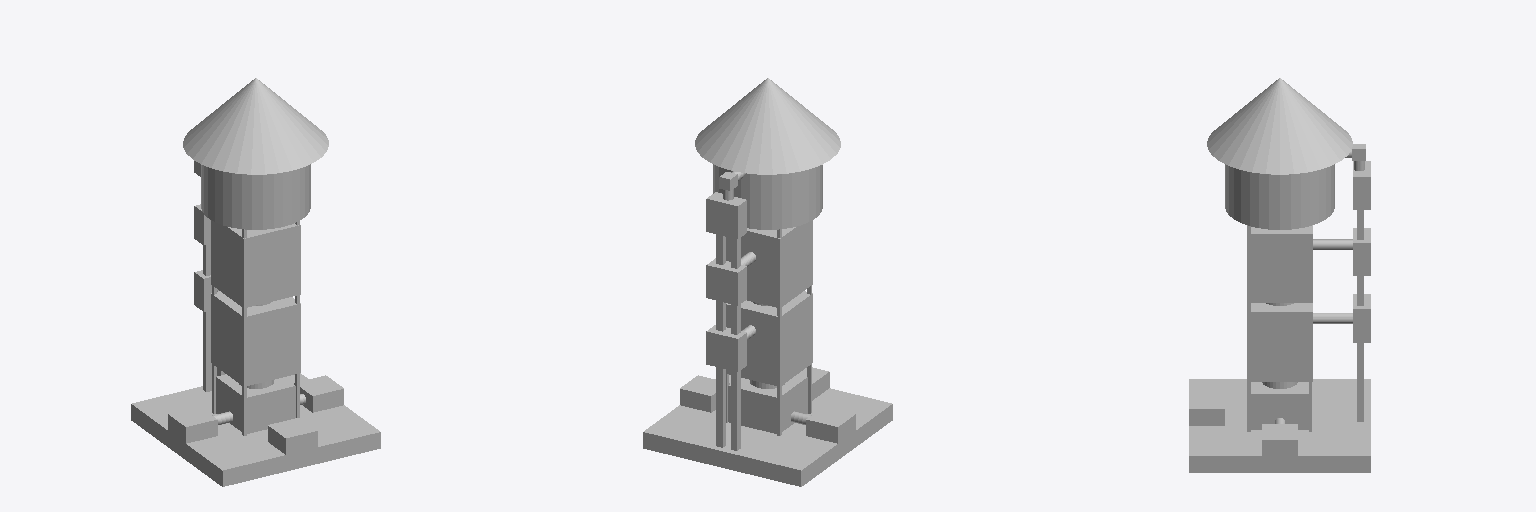
The model's file is refineryOn.obj.
The picture shows the model from 3 angles: view 1: azimuth 30°, elevation 25°; view 2: azimuth 150°, elevation 25°; view 3: azimuth 270°, elevation 25°; orthographic projection.
Visible parts, largest first — view 1: Cone, Cube.004, Cube.013, Plane_Plane.002, Cylinder.005, Cube.002, Cube.001, Cube.003, Cube, Plane.008_Plane.007, Plane.007_Plane.006, Cube.007 (+4 smaller); view 2: Cone, Plane_Plane.002, Cube.004, Cube.013, Cylinder.005, Cube.002, Plane.006_Plane.005, Cube.003, Cube.014, Cube.006, Cube.015, Cube.007 (+4 smaller); view 3: Cone, Plane_Plane.002, Cylinder.005, Cube.004, Cube.013, Cube.002, Cube, Plane.004_Plane, Plane.001, Cube.001, Cube.005, Cube.006 (+2 smaller).
Boxes of the visible parts, box(x1,y1,x2,y2) form: Cone: box(183, 78, 328, 174); Cube.004: box(211, 291, 300, 386); Cube.013: box(211, 220, 300, 307); Plane_Plane.002: box(132, 373, 379, 470); Cylinder.005: box(201, 164, 310, 229); Cube.002: box(216, 374, 295, 433); Cube.001: box(268, 418, 317, 471); Cube.003: box(168, 406, 217, 459); Cube: box(294, 375, 343, 412); Plane.008_Plane.007: box(318, 432, 380, 463); Plane.007_Plane.006: box(223, 455, 285, 486); Cube.007: box(203, 244, 211, 391); Cone: box(695, 78, 840, 174); Plane_Plane.002: box(644, 375, 891, 470); Cube.004: box(726, 291, 812, 386); Cube.013: box(726, 220, 812, 307); Cylinder.005: box(713, 164, 822, 229); Cube.002: box(728, 374, 807, 433); Plane.006_Plane.005: box(643, 432, 800, 486); Cube.003: box(806, 406, 855, 459); Cube.014: box(706, 192, 746, 238); Cube.006: box(706, 325, 746, 371); Cube.015: box(706, 258, 746, 305); Cube.007: box(731, 238, 740, 450); Cone: box(1207, 78, 1352, 174); Plane_Plane.002: box(1189, 379, 1370, 455); Cylinder.005: box(1225, 164, 1334, 229); Cube.004: box(1247, 303, 1312, 381); Cube.013: box(1247, 225, 1312, 302); Cube.002: box(1251, 382, 1308, 429); Cube: box(1262, 424, 1297, 472); Plane.004_Plane: box(1189, 456, 1261, 472); Plane.001: box(1298, 456, 1370, 472); Cube.001: box(1189, 393, 1224, 425); Cube.005: box(1357, 210, 1363, 421); Cube.006: box(1353, 294, 1370, 342).
Size of the model in its own units: 5 by 10.76 by 5.